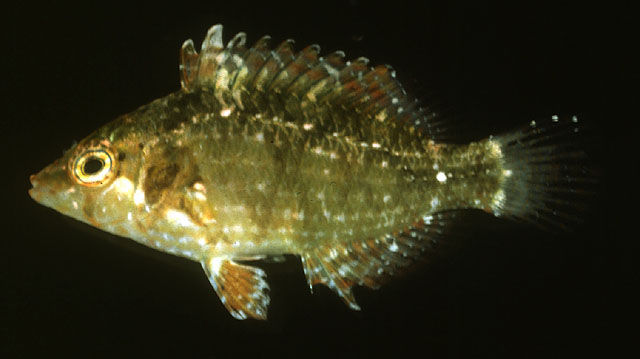fish: (29, 23, 579, 322)
